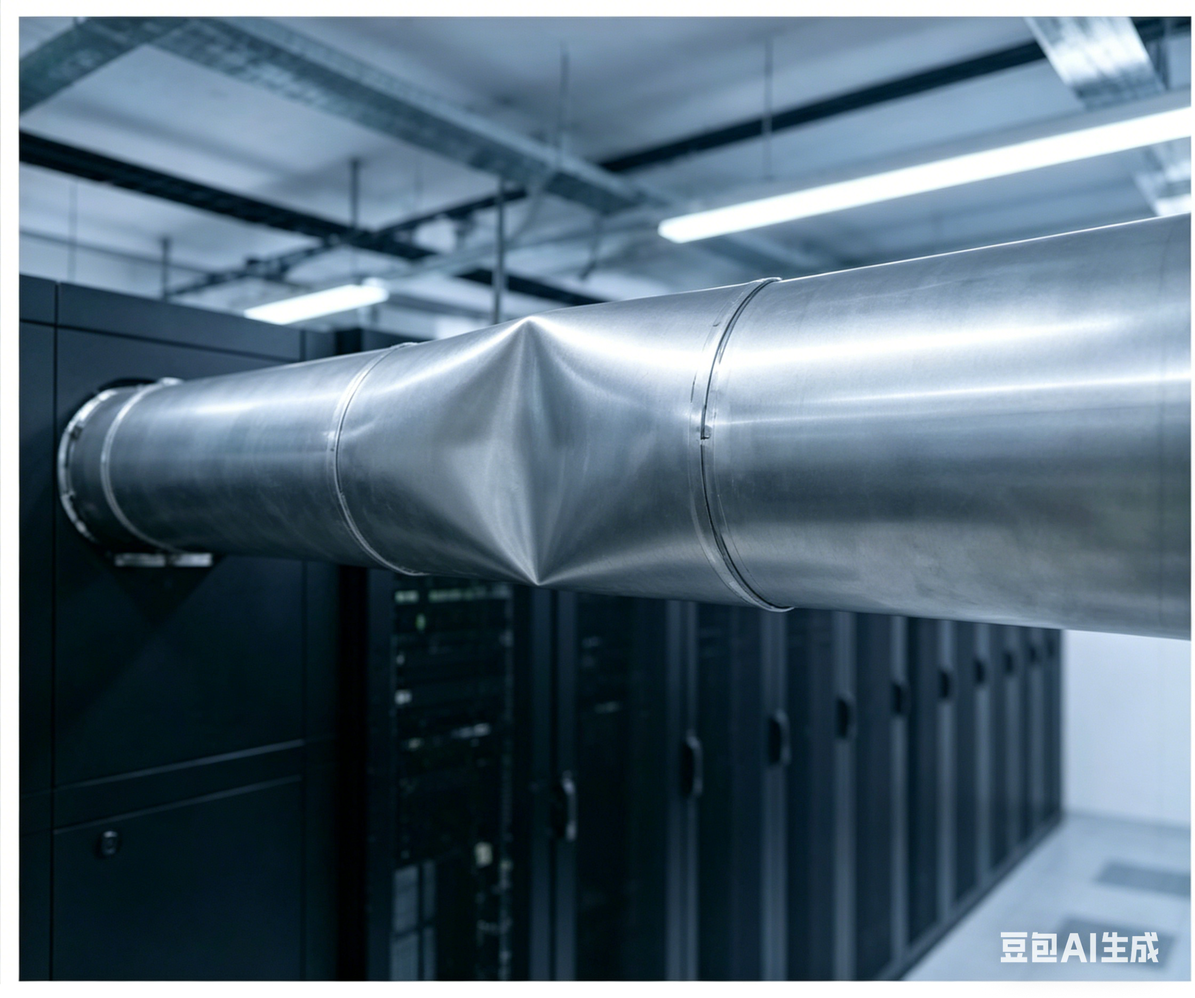Leakage: (407, 308, 628, 589)
